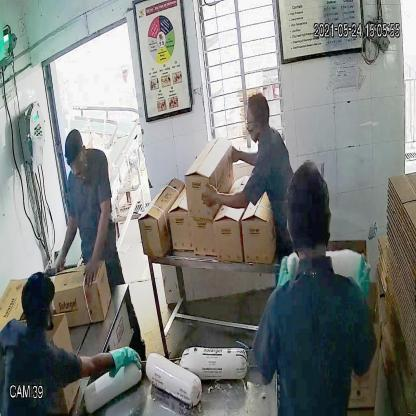goggles: (62, 152, 87, 174)
